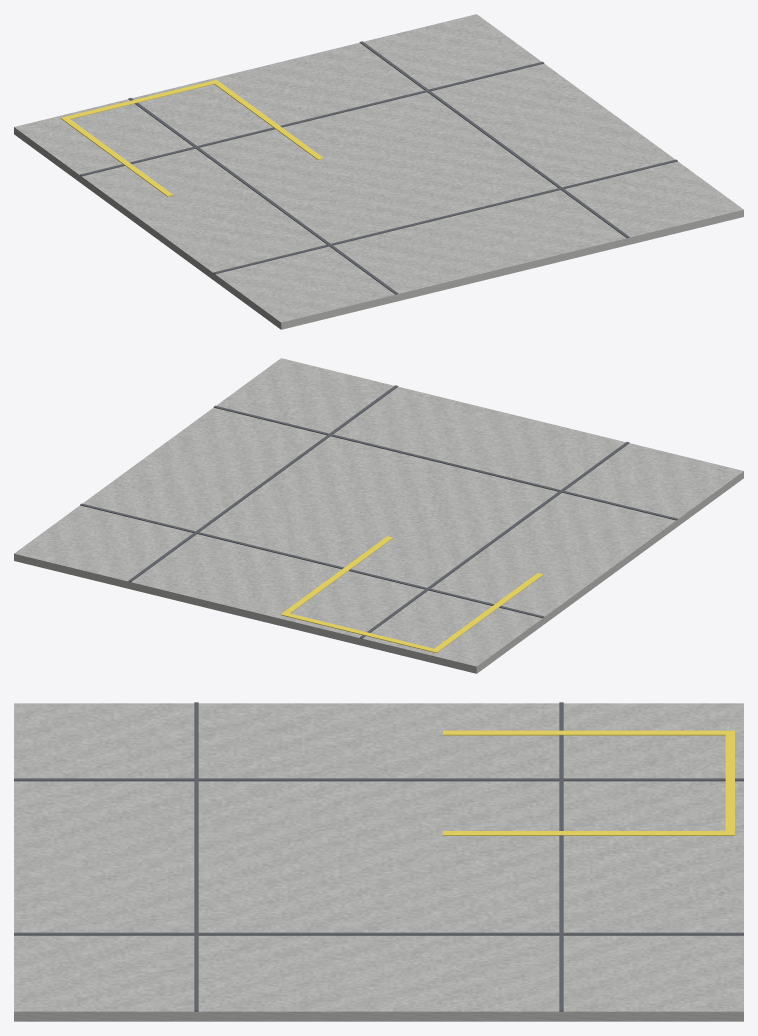
Rendered from go-kart-track-and-pit-lane-paddock-apron-tile-7911ab28__34347.glb.
3 renders of one model, top to bottom at view 1: azimuth 30°, elevation 25°; view 2: azimuth 150°, elevation 25°; view 3: azimuth 270°, elevation 25°, orthographic. The views are drawn at different scales.
Parts seen in each view (by area): view 1: paddock-apron-tile-concrete, paddock-apron-tile-charcoal, paddock-apron-tile-canary; view 2: paddock-apron-tile-concrete, paddock-apron-tile-charcoal, paddock-apron-tile-canary; view 3: paddock-apron-tile-concrete, paddock-apron-tile-charcoal, paddock-apron-tile-canary.
Boxes of the visible parts, <box> form: paddock-apron-tile-concrete: <box>14,14,743,329</box>; paddock-apron-tile-charcoal: <box>80,41,677,294</box>; paddock-apron-tile-canary: <box>60,80,323,196</box>; paddock-apron-tile-concrete: <box>14,358,743,673</box>; paddock-apron-tile-charcoal: <box>80,385,677,638</box>; paddock-apron-tile-canary: <box>280,536,543,653</box>; paddock-apron-tile-concrete: <box>14,703,743,1021</box>; paddock-apron-tile-charcoal: <box>14,702,743,1011</box>; paddock-apron-tile-canary: <box>443,730,734,835</box>.
Bounding box in the file's own units: 8 × 0.1371 × 8.
3 materials, 1 textured.
